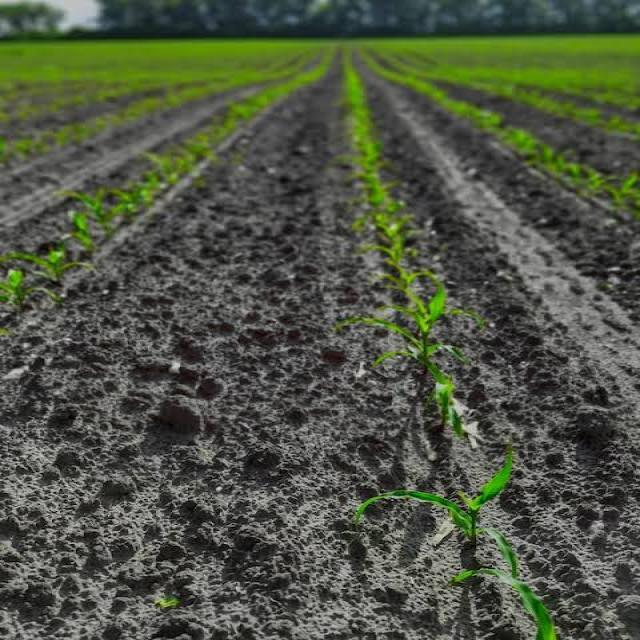suelo_humedo: (99, 50, 604, 609)
